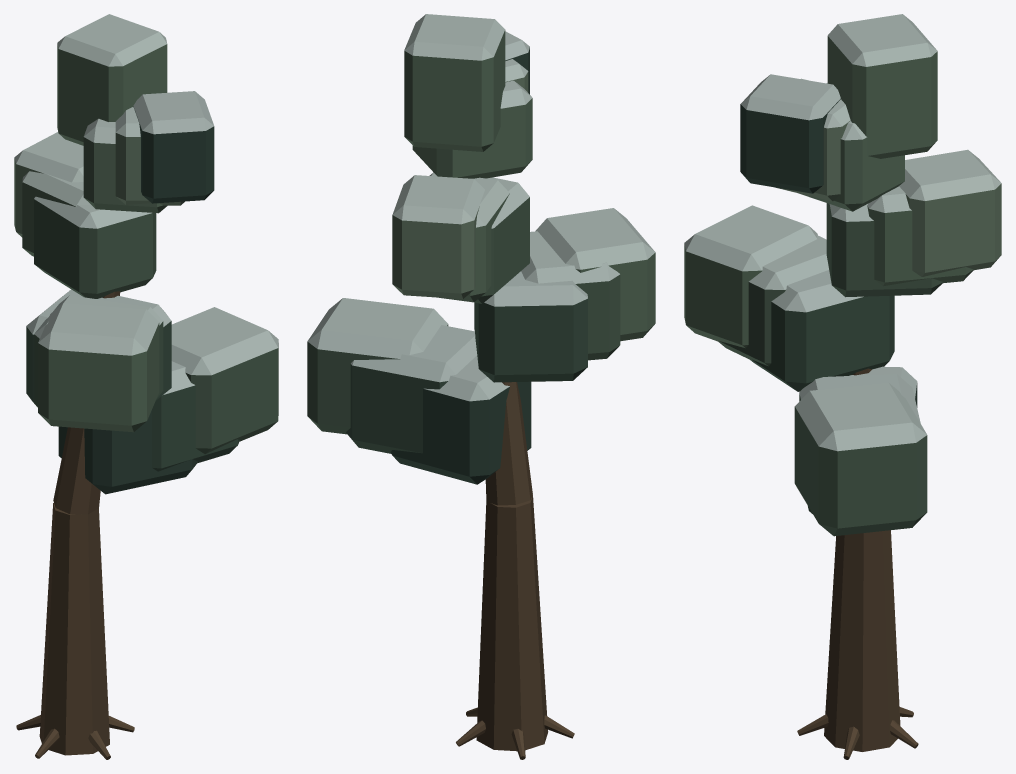
Rendered from juniper_sapling_winter.glb.
3 renders of one model, left to right at view 1: azimuth 30°, elevation 25°; view 2: azimuth 150°, elevation 25°; view 3: azimuth 270°, elevation 25°, orthographic. The views are drawn at different scales.
Parts seen in each view (by area): view 1: juniper_sapling_winter; view 2: juniper_sapling_winter; view 3: juniper_sapling_winter.
Part boxes in pixels (x1=…): juniper_sapling_winter: x1=14, y1=14, x2=278, y2=759; juniper_sapling_winter: x1=307, y1=14, x2=655, y2=759; juniper_sapling_winter: x1=684, y1=14, x2=1001, y2=759.
Size of the model in its own units: 2.1 by 5 by 1.98.
